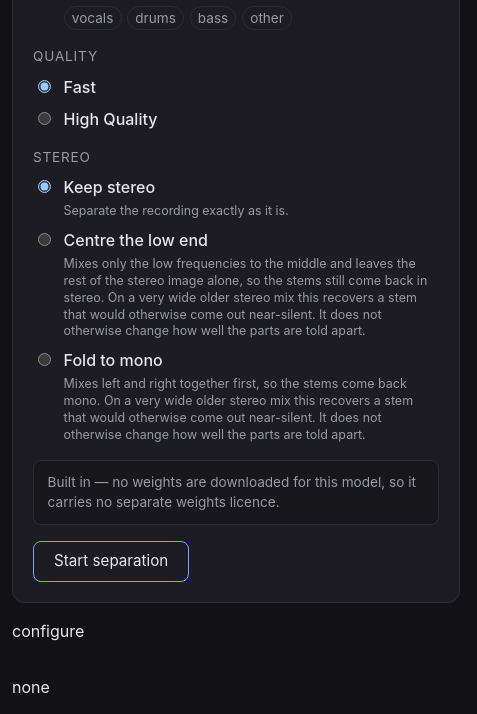
Test case: SeparationOptions starting a separation › shows the envelope message and re-enables the button on failure
(page scrolled)
Click the button "Start separation".
click(111, 561)  # box [33, 541, 189, 582]
(page scrolled)
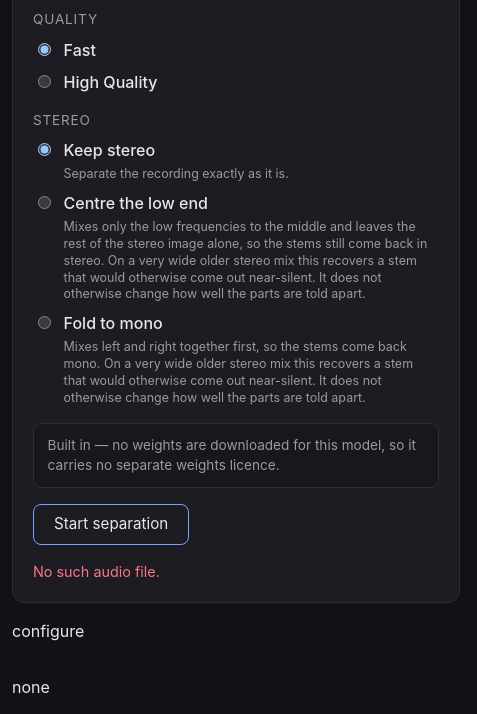
Expected: the button "Start separation" is enabled, [33, 504, 189, 544]
Expected: the message reads "No such audio file.", [33, 562, 160, 580]
